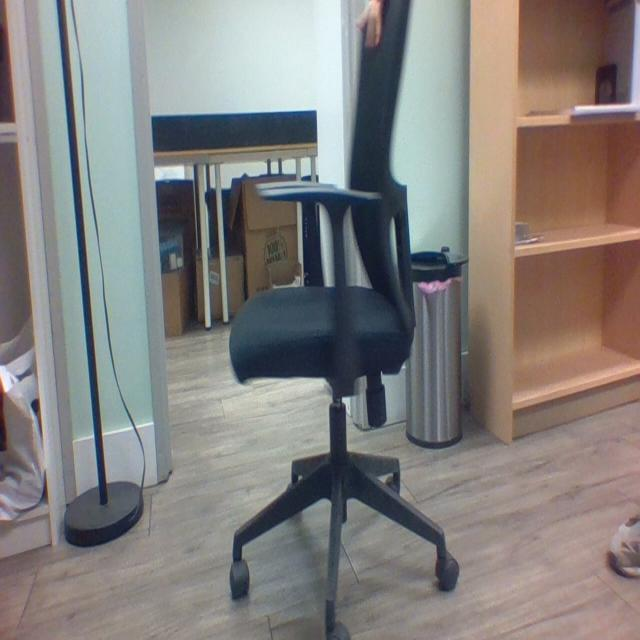chair: (226, 8, 456, 638)
